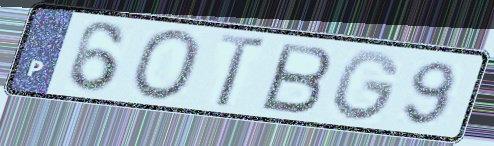6: (64, 19, 129, 96)
9: (398, 58, 465, 127)
B: (258, 39, 336, 116)
G: (330, 48, 403, 125)
O: (127, 27, 203, 103)
T: (213, 31, 271, 110)
